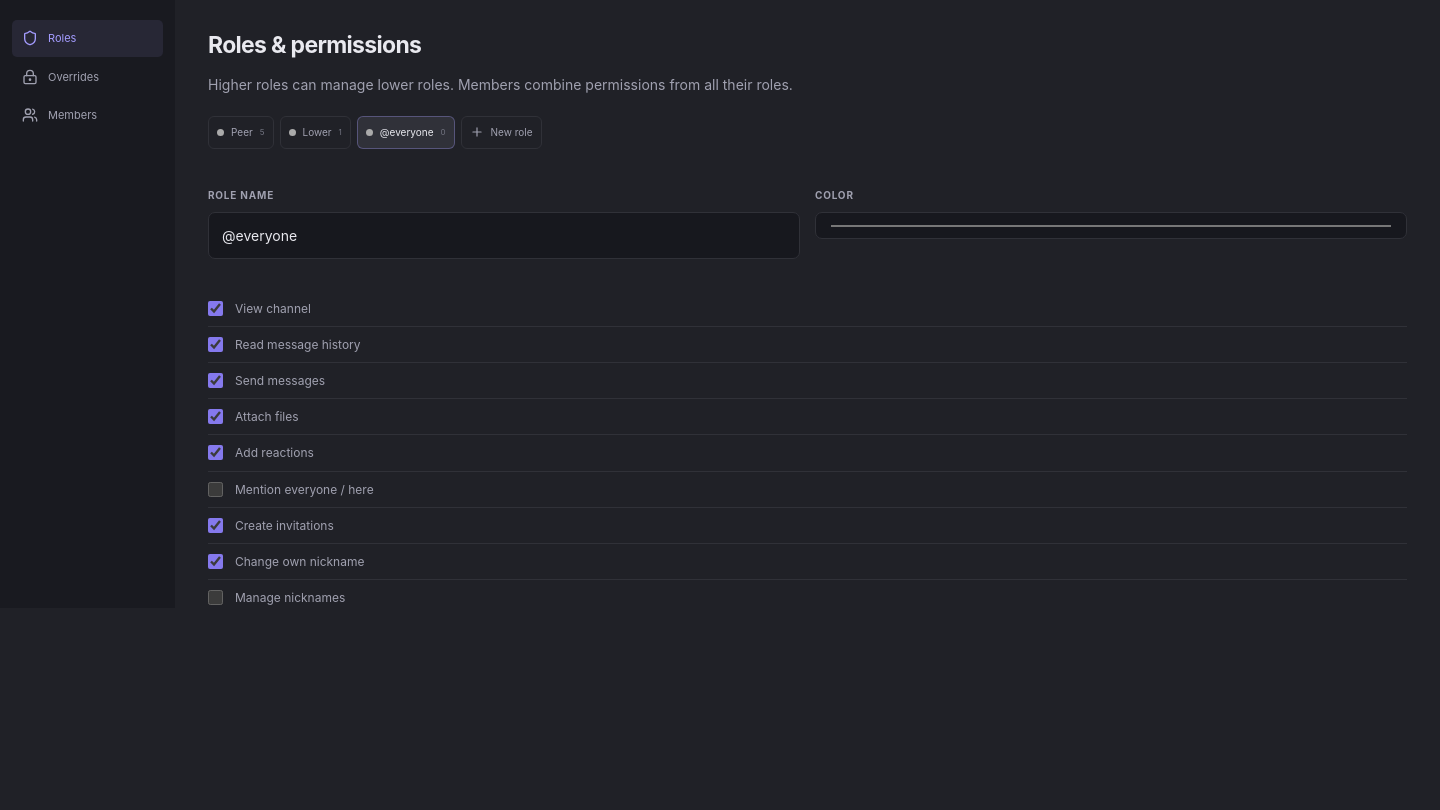
Test: disables hierarchy-blocked role edits for a role-only manager
Click the button "Peer 5". click: (241, 132)
box: [208,116,274,149]
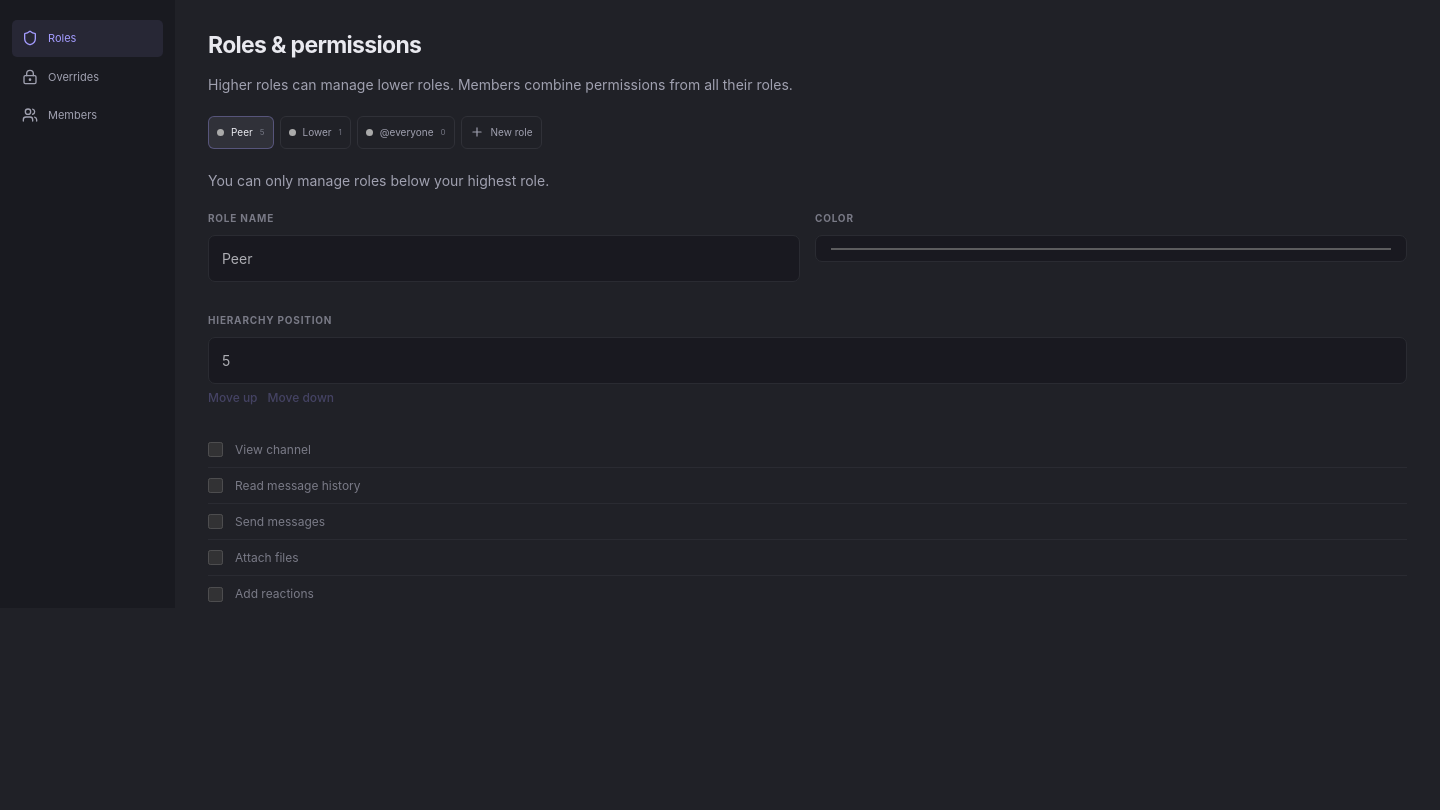
Expected: the text "You can only manage roles below your highest role." is shown, [208,172,549,189]
